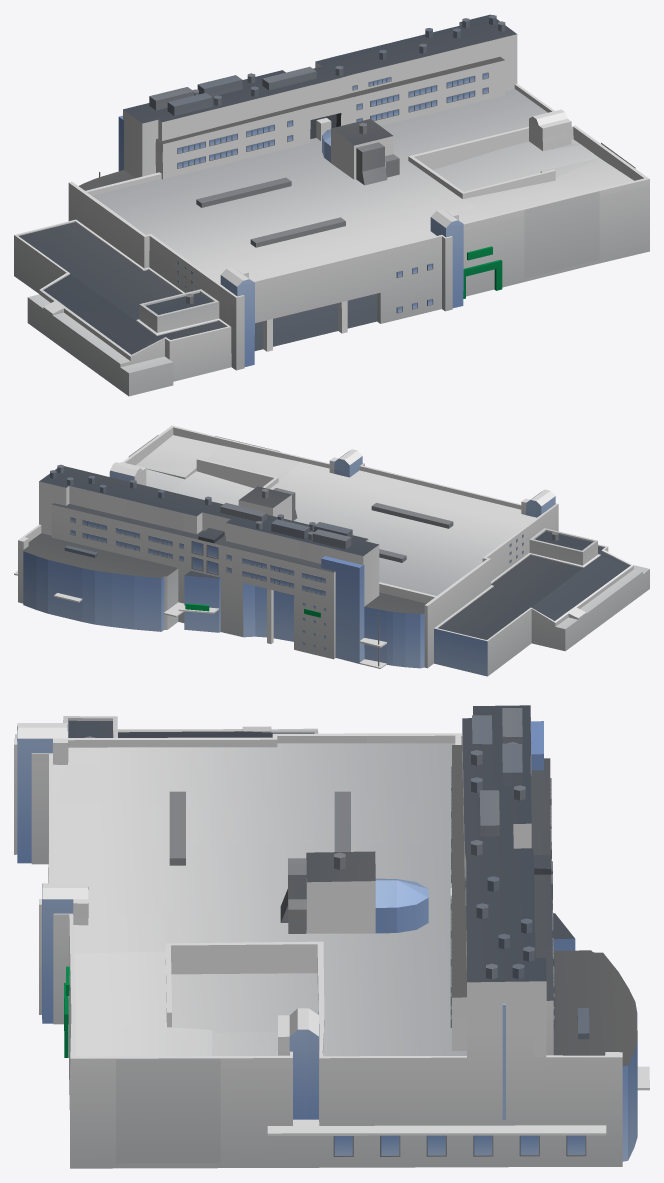
Rendered from prisma (1).fbx.
3 views of the same model, one above another, from view 1: azimuth 30°, elevation 25°; view 2: azimuth 150°, elevation 25°; view 3: azimuth 270°, elevation 25° (orthographic). The views are drawn at different scales.
Parts seen in each view (by area): view 1: prisma1; view 2: prisma1; view 3: prisma1.
Boxes of the visible parts, x1,y1,x2,y2 form: prisma1: (14,14,649,396); prisma1: (14,425,649,676); prisma1: (14,705,649,1168).
Size of the model in its own units: 289 by 66.67 by 191.
